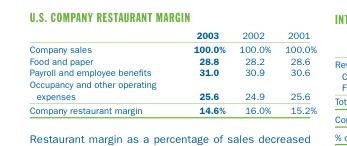table: (28, 29, 316, 114)
table column: (28, 29, 174, 114), (174, 29, 231, 114), (231, 29, 277, 114), (277, 29, 316, 114)
table column header: (28, 29, 316, 41)
table row: (28, 77, 316, 102), (28, 41, 316, 54), (28, 29, 316, 41), (28, 54, 316, 66), (28, 102, 316, 114), (28, 66, 316, 77)
